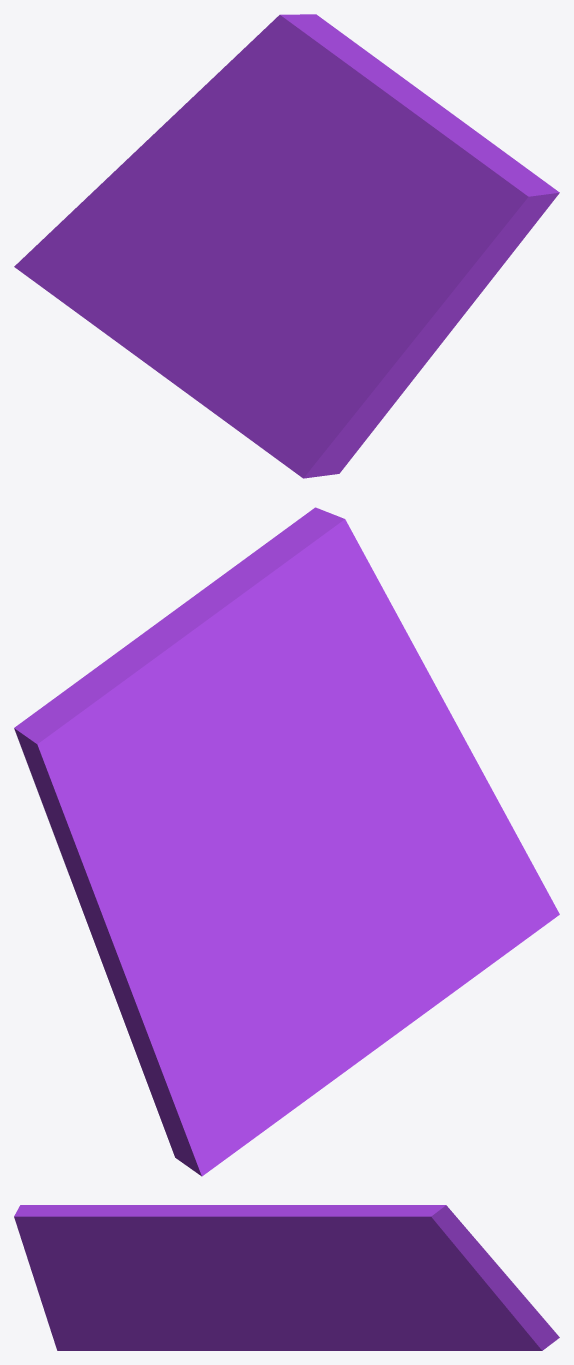
The model's file is Window_116.fbx.
3 views of the same model, one above another, from view 1: azimuth 30°, elevation 25°; view 2: azimuth 150°, elevation 25°; view 3: azimuth 270°, elevation 25° (orthographic). The views are drawn at different scales.
Parts seen in each view (by area): view 1: Window_116; view 2: Window_116; view 3: Window_116.
Part boxes in pixels (x1,y1,x2,y2): Window_116: (14,14,559,478); Window_116: (14,507,559,1176); Window_116: (14,1205,559,1350).
Bounding box in the file's own units: 720 × 763 × 1750.
